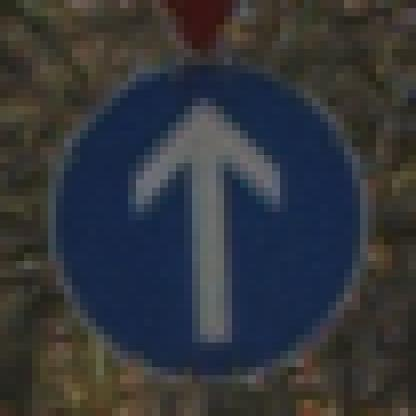AheadOnly: (49, 42, 377, 376)
